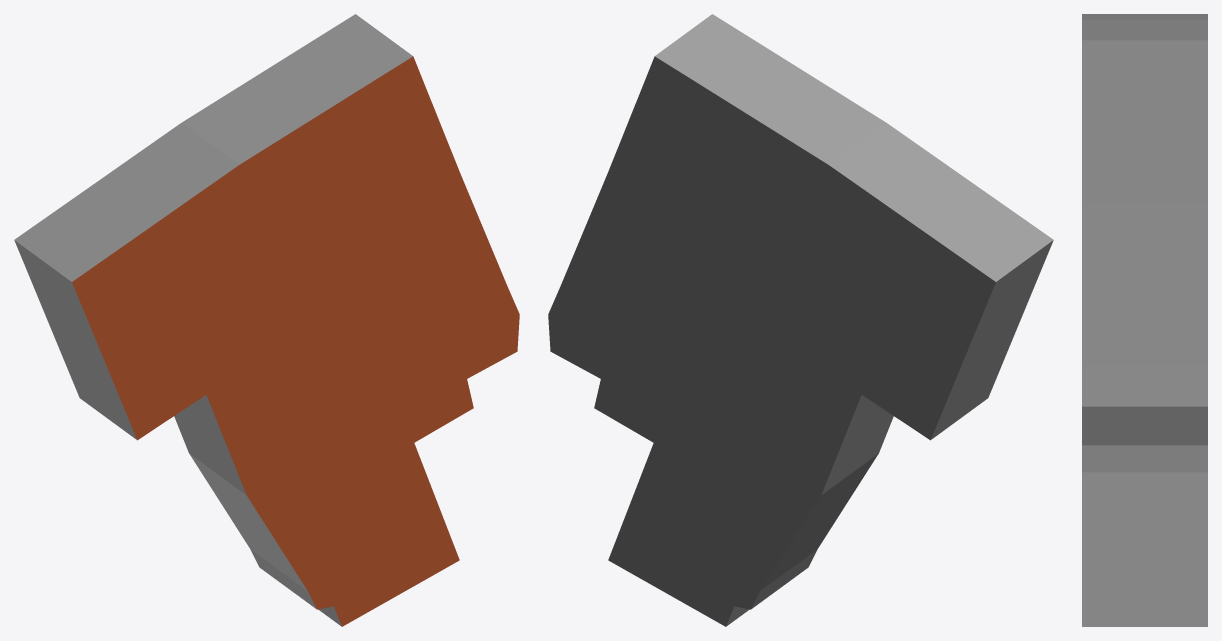
File: construction_0355_assumed_A_Casa_h6m.obj
3 renders of one model, left to right at view 1: azimuth 30°, elevation 25°; view 2: azimuth 150°, elevation 25°; view 3: azimuth 270°, elevation 25°, orthographic. The views are drawn at different scales.
Visible parts, largest first — view 1: construction_0355_assumed_A_Casa; view 2: construction_0355_assumed_A_Casa; view 3: construction_0355_assumed_A_Casa.
Part boxes in pixels (x1,y1,x2,y2): construction_0355_assumed_A_Casa: (14,14,519,626); construction_0355_assumed_A_Casa: (548,14,1053,626); construction_0355_assumed_A_Casa: (1082,14,1207,626).
Size of the model in its own units: 26.87 by 31.72 by 6.
